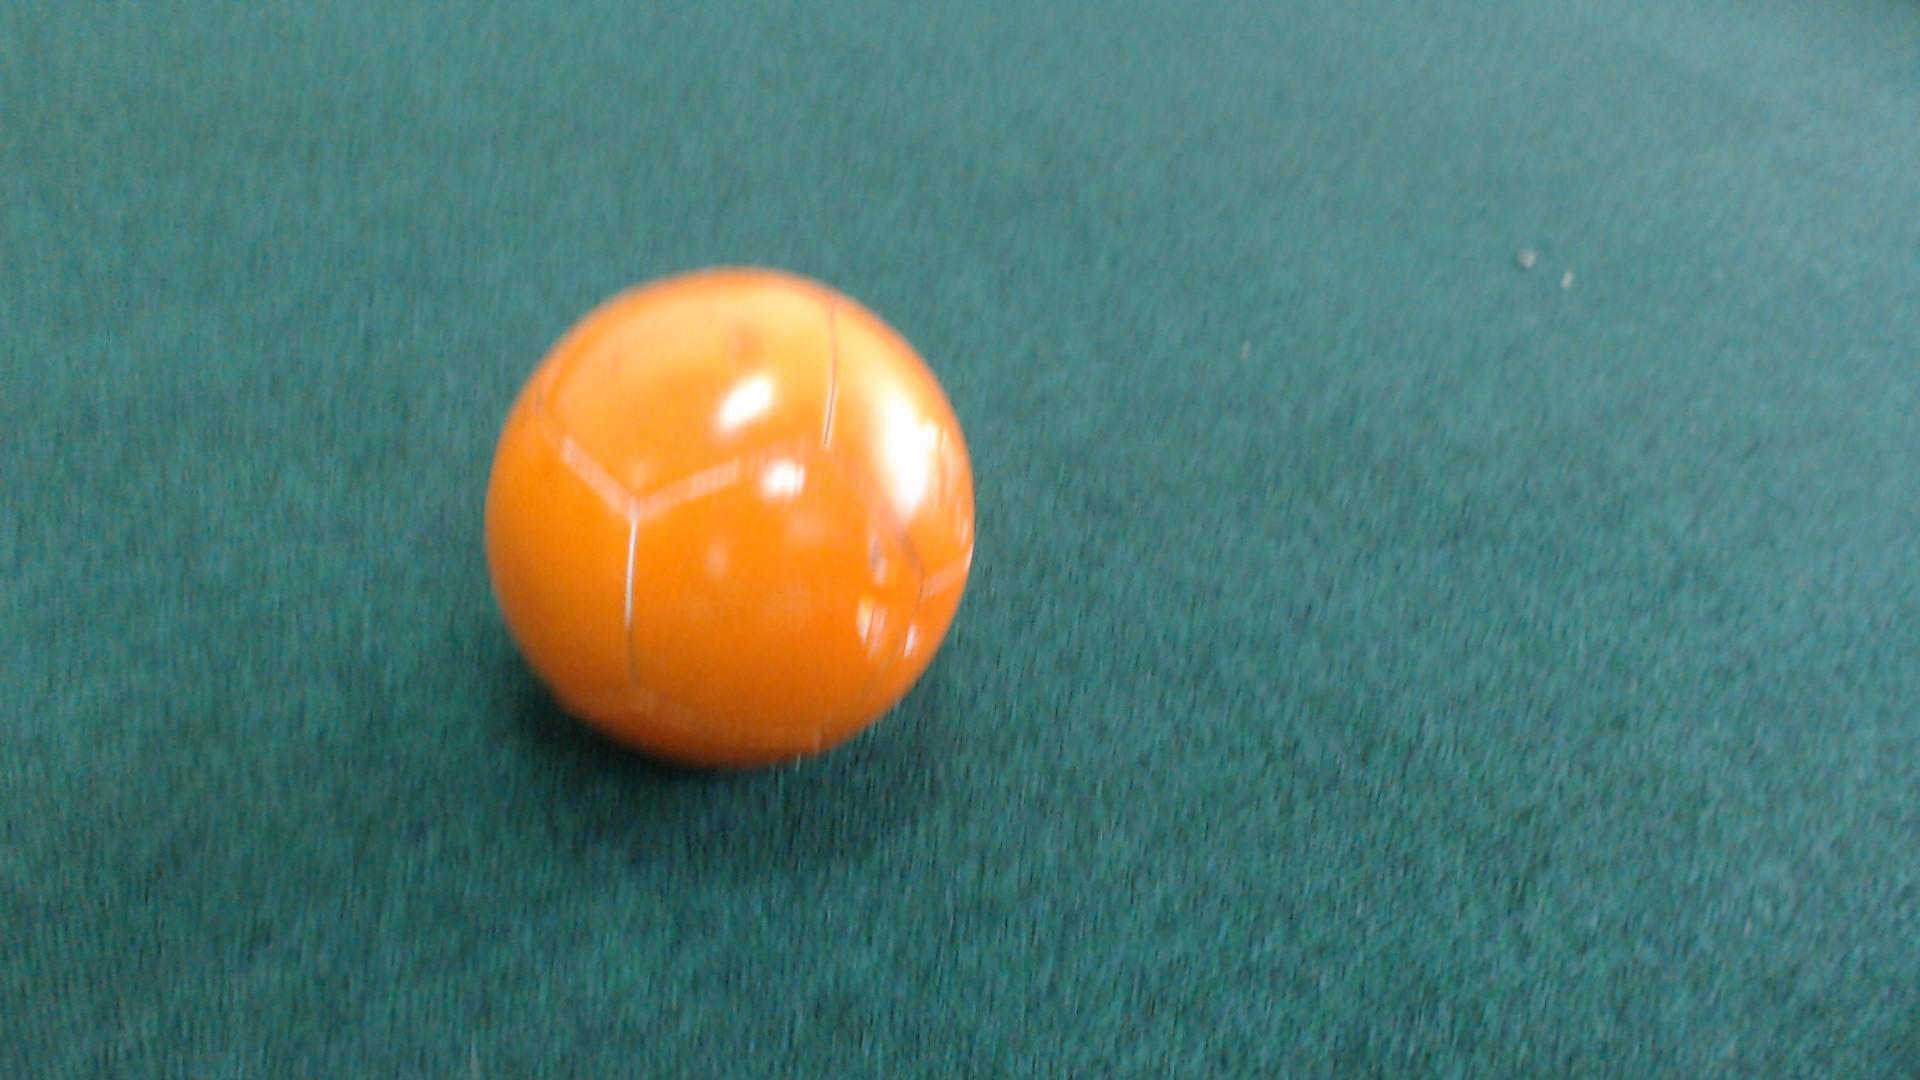bola: (475, 252, 993, 779)
